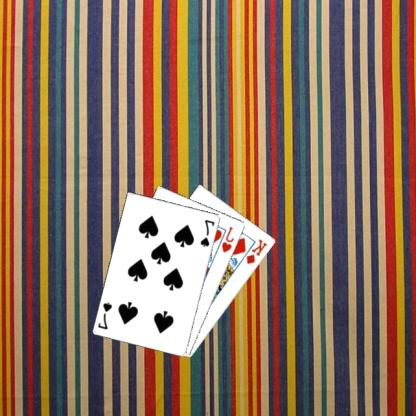7S: (200, 216, 218, 248), (97, 298, 115, 330)
JH: (221, 224, 237, 254)
KD: (245, 236, 271, 266)
